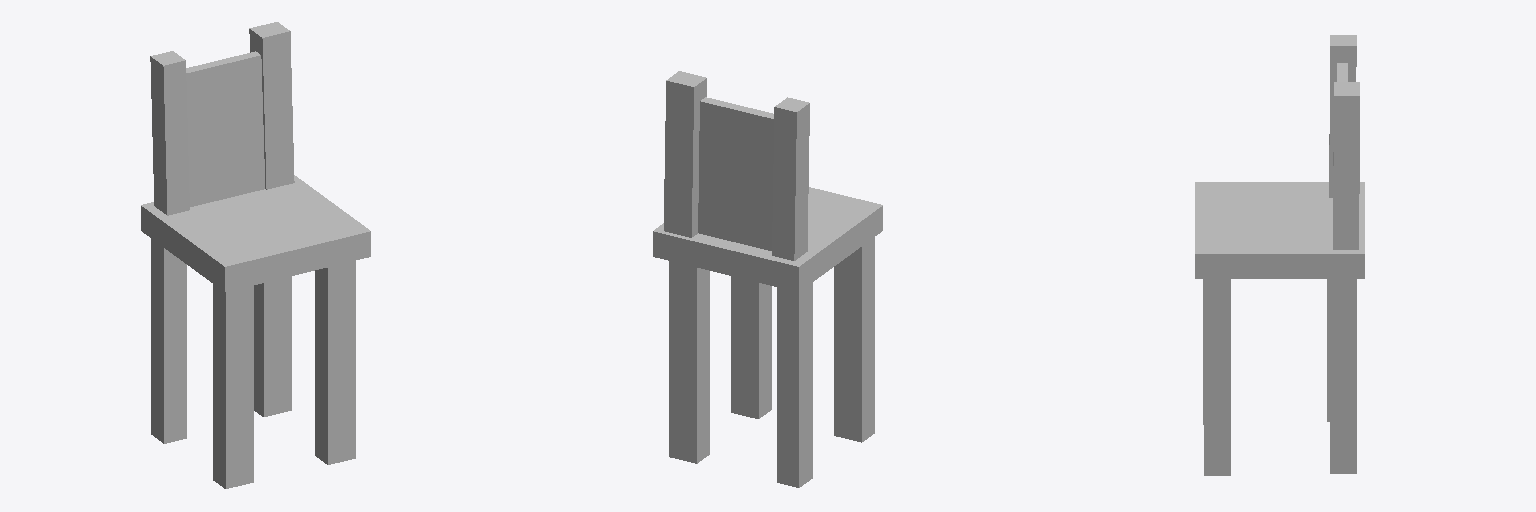
The model's file is slla.obj.
The picture shows the model from 3 angles: view 1: azimuth 30°, elevation 25°; view 2: azimuth 150°, elevation 25°; view 3: azimuth 270°, elevation 25°; orthographic projection.
Parts seen in each view (by area): view 1: pCube9, pCube5, pCube4, pCube1, pCube2, pCube8, pCube7, pCube3; view 2: pCube5, pCube9, pCube3, pCube4, pCube2, pCube7, pCube8, pCube1; view 3: pCube9, pCube1, pCube3, pCube7, pCube8.
Boxes of the visible parts, box(x1,y1,x2,y2) form: pCube9: box(141, 175, 370, 291); pCube5: box(186, 51, 264, 206); pCube4: box(213, 284, 253, 488); pCube1: box(315, 261, 355, 464); pCube2: box(151, 239, 186, 443); pCube8: box(150, 51, 189, 215); pCube7: box(249, 22, 294, 189); pCube3: box(254, 276, 291, 416); pCube5: box(698, 97, 773, 250); pCube9: box(653, 187, 882, 291); pCube3: box(669, 261, 709, 463); pCube4: box(834, 237, 874, 442); pCube2: box(777, 283, 812, 487); pCube7: box(664, 71, 706, 237); pCube8: box(772, 97, 809, 260); pCube1: box(731, 276, 771, 418); pCube9: box(1195, 182, 1364, 278); pCube1: box(1204, 279, 1230, 475); pCube3: box(1330, 279, 1356, 473); pCube7: box(1333, 82, 1359, 249); pCube8: box(1329, 35, 1356, 197).
Size of the model in its own units: 3.8 by 9.43 by 3.8.